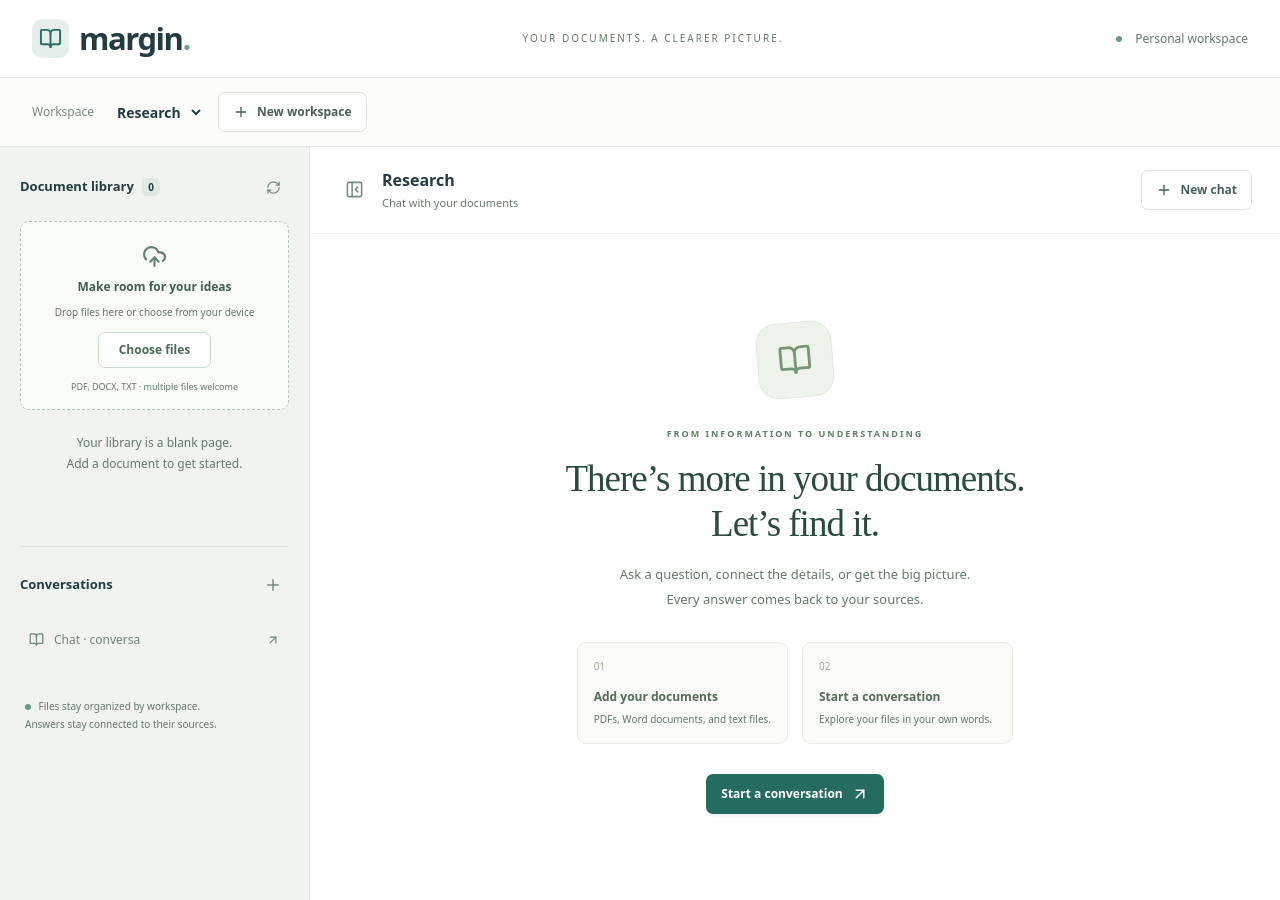
Test: creates and selects workspaces, and opens server conversation history
Click the button "Chat · conversa": click(72, 639) [20,619,289,661]
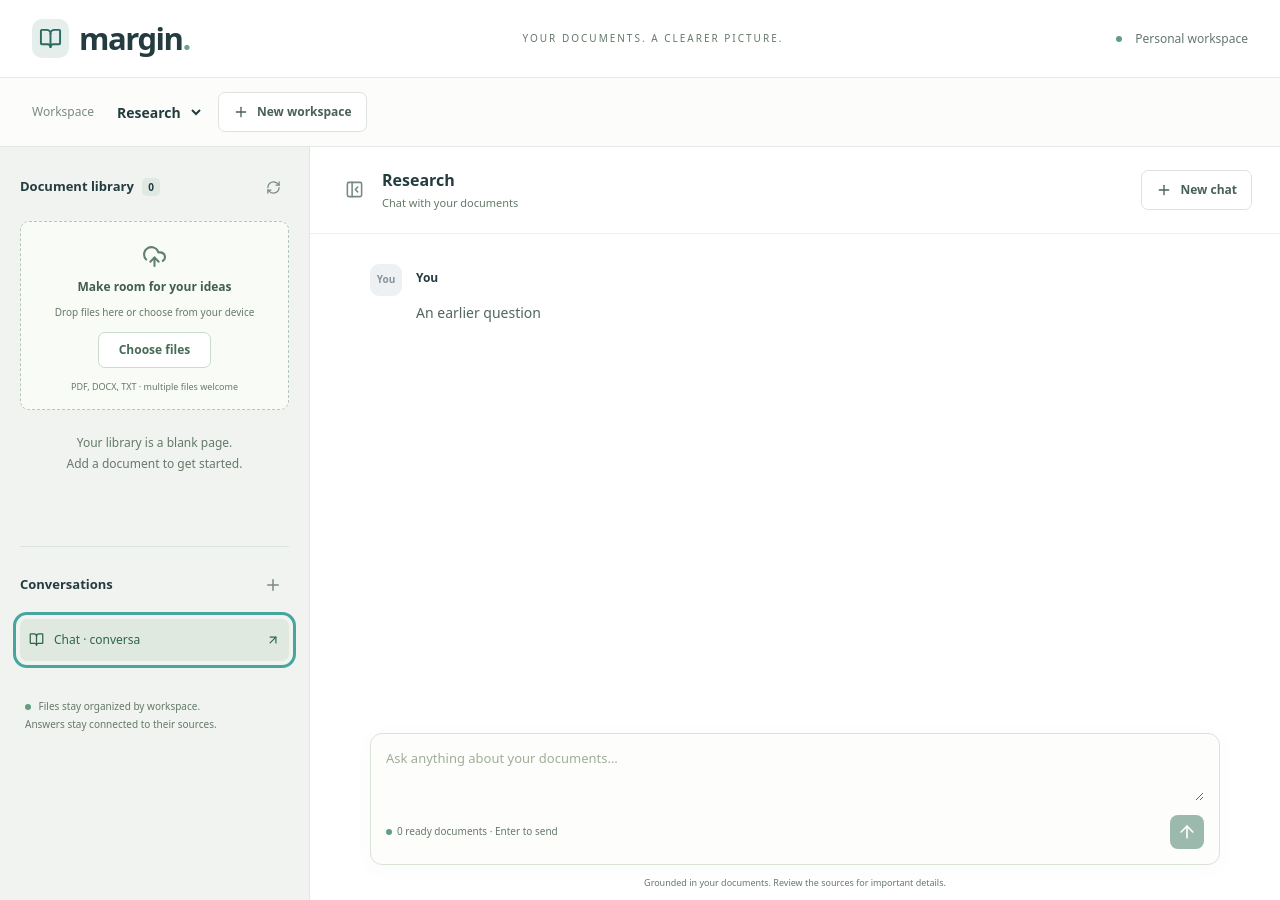
expect the text "An earlier question" is shown: met, box [416,302,541,322]
Click the button "New workspace": click(292, 112) [218,92,367,132]
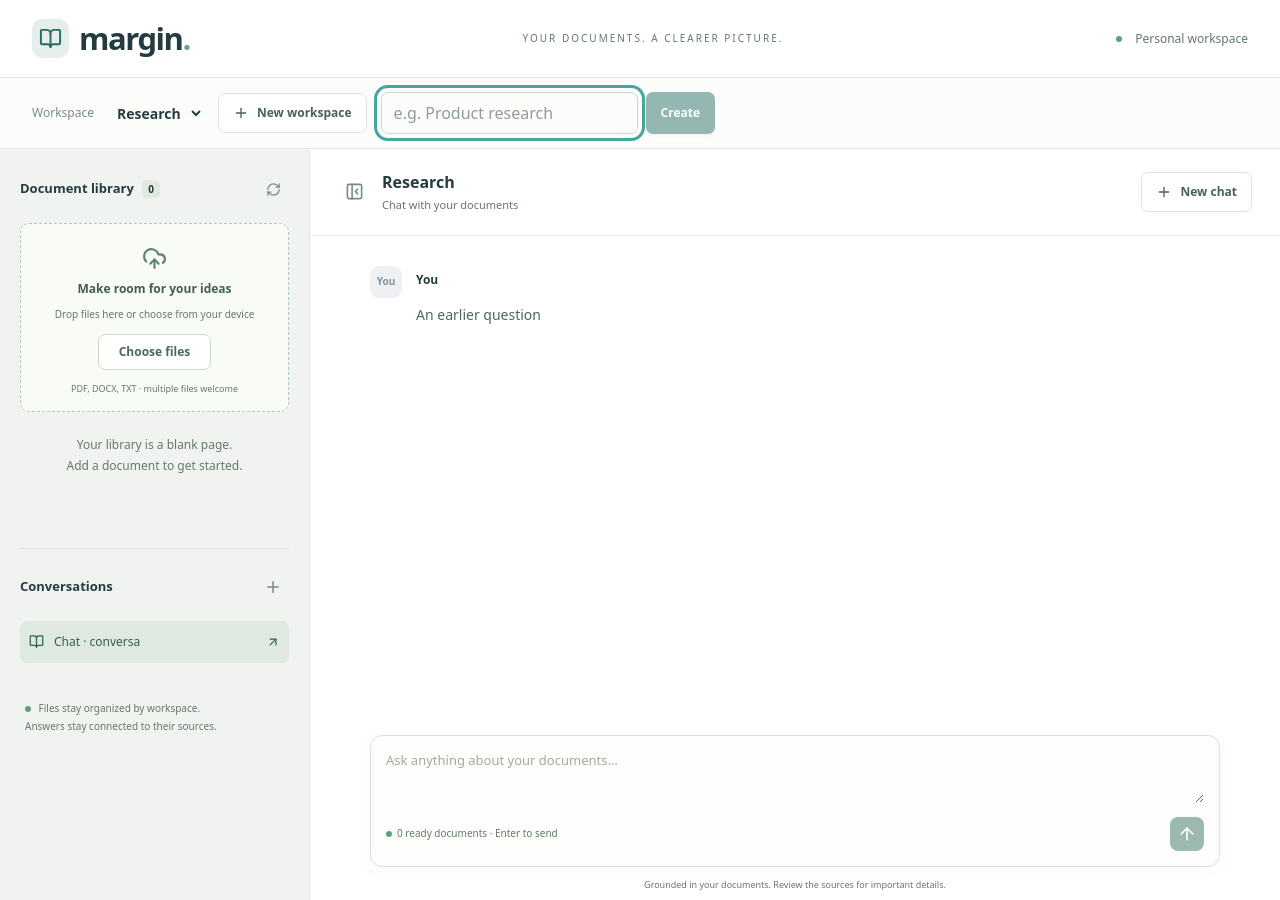
In the field named "Workspace name": (509, 113) [381,92,638,134], type "New research"
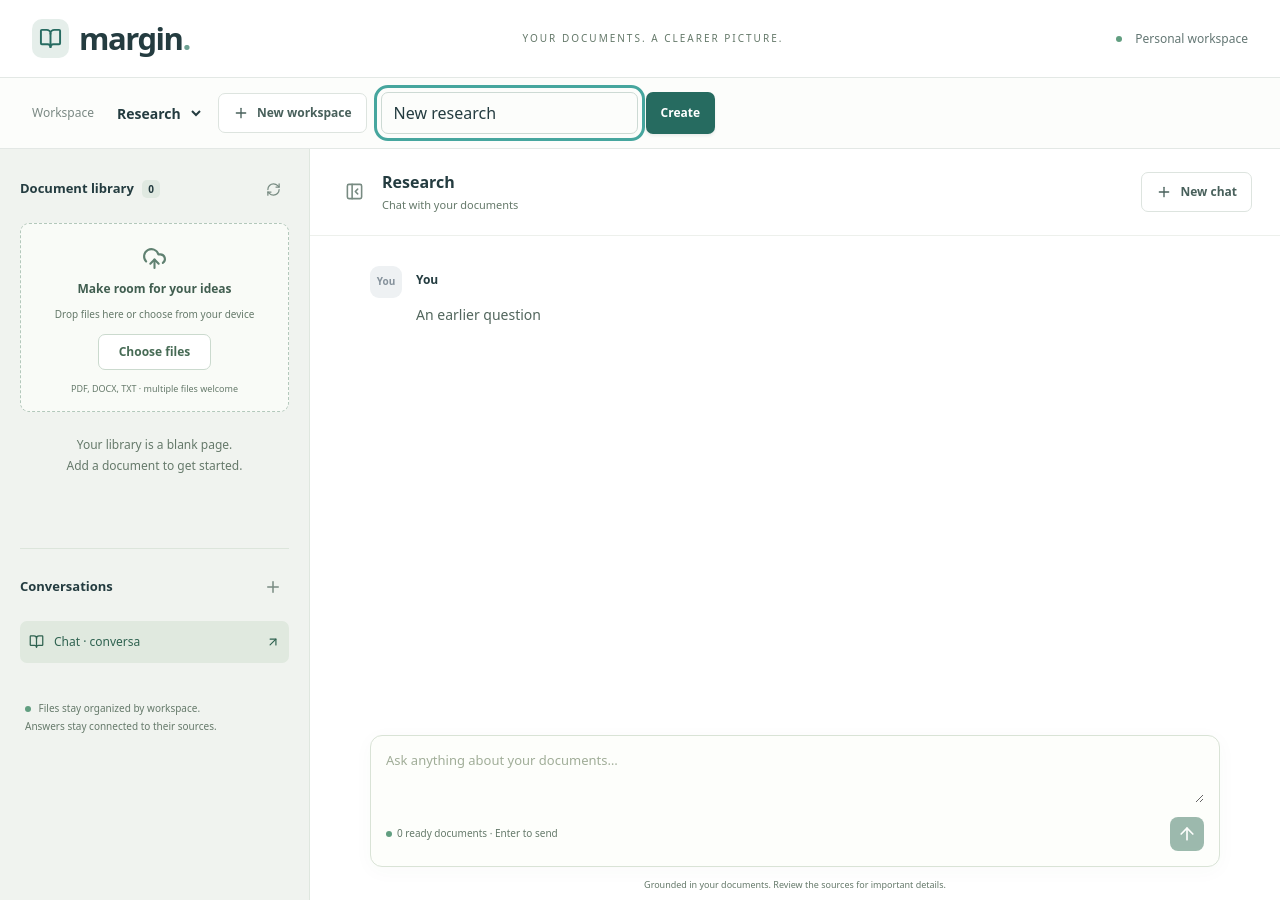
Click the button "Create": click(680, 113) [646,92,715,134]
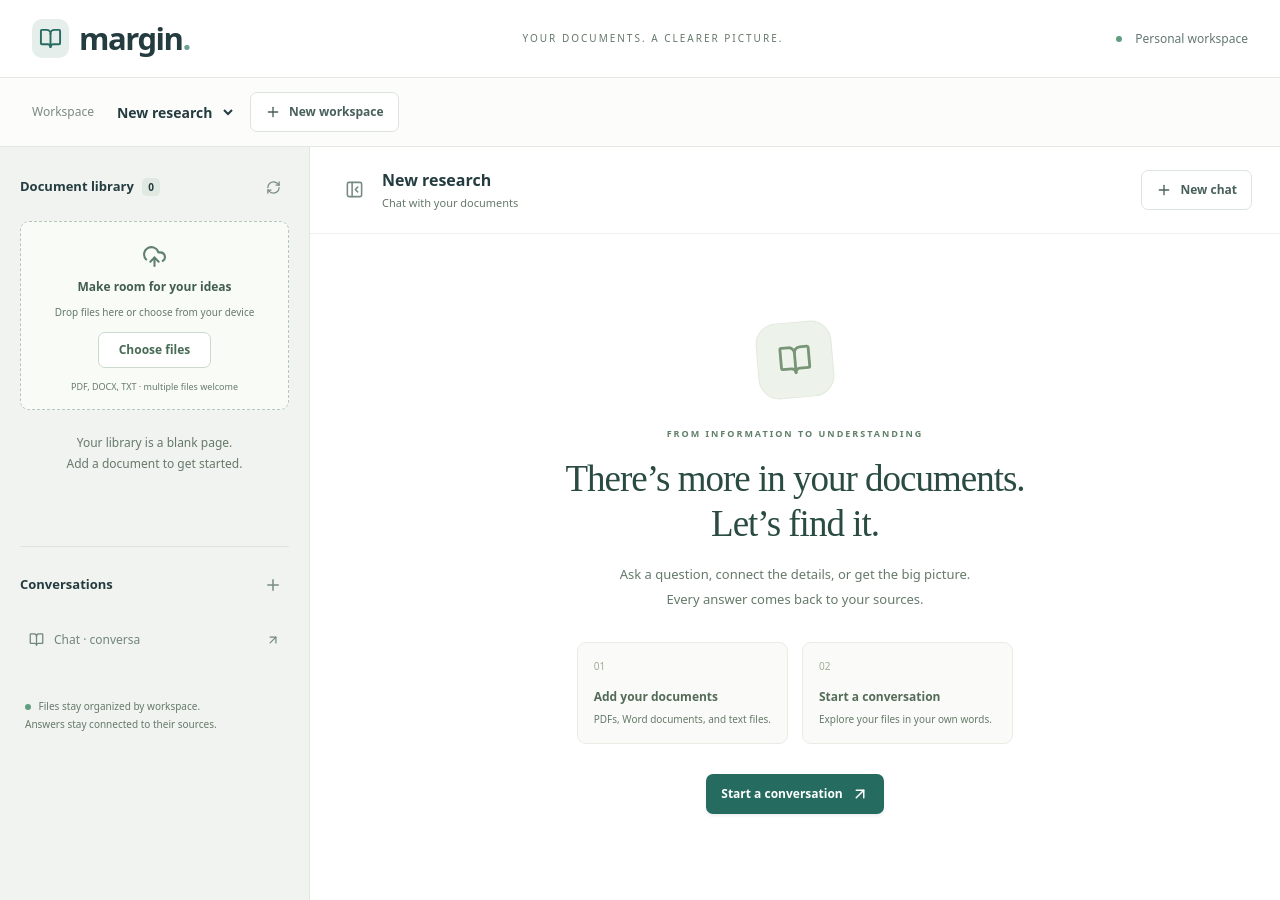
expect the dropdown labelled "Workspace" shows "New research": met, box [106,94,236,130]
expect the text "An earlier question" is gone: met
